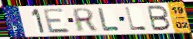1: (31, 8, 46, 34)
B: (146, 5, 172, 32)
E: (42, 8, 72, 35)
L: (124, 6, 148, 31), (97, 7, 121, 32)
R: (72, 7, 98, 33)
